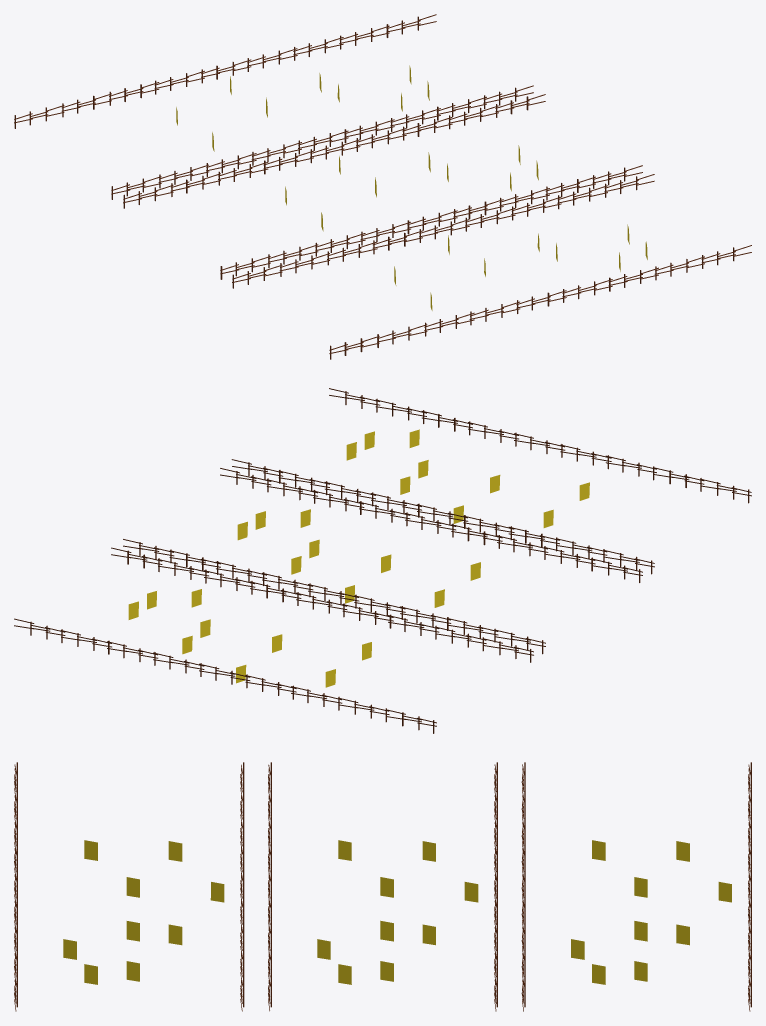
The model's file is farm03.glb.
The picture shows the model from 3 angles, top to bottom: view 1: azimuth 30°, elevation 25°; view 2: azimuth 150°, elevation 25°; view 3: azimuth 270°, elevation 25°; orthographic projection. The views are drawn at different scales.
Visible parts, largest first — view 1: Farm03; view 2: Farm03; view 3: Farm03.
Boxes of the visible parts, x1,y1,x2,y2 form: Farm03: (14, 14, 751, 359); Farm03: (14, 388, 751, 733); Farm03: (14, 762, 751, 1011).
Size of the model in its own units: 17.92 by 0.8765 by 23.26.
